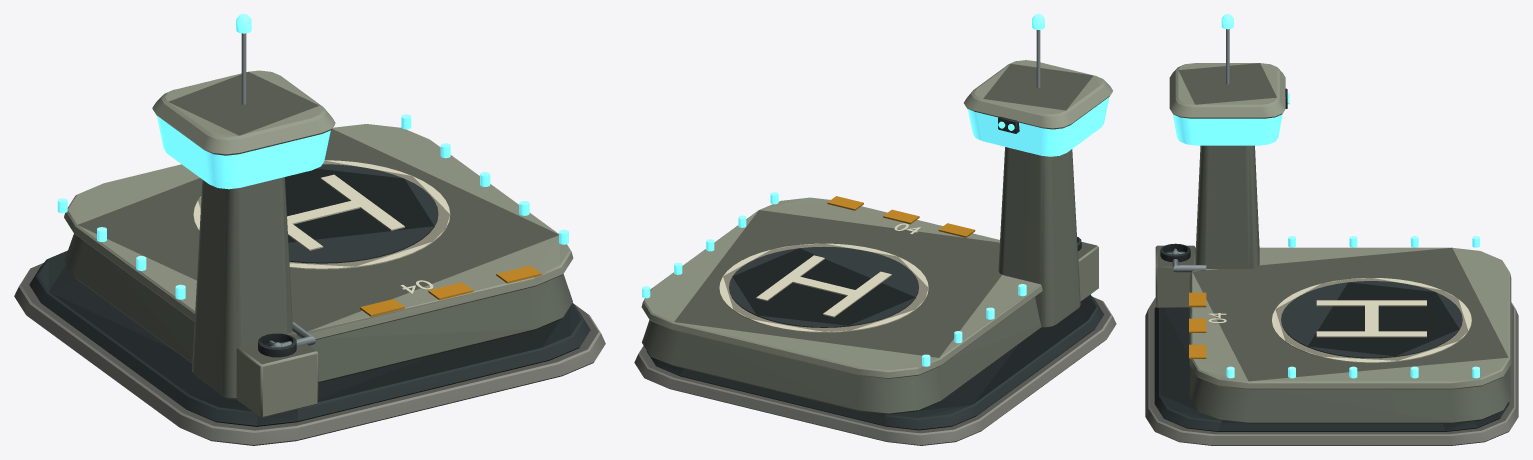
File: AircraftFactory.glb
3 renders of one model, left to right at view 1: azimuth 30°, elevation 25°; view 2: azimuth 150°, elevation 25°; view 3: azimuth 270°, elevation 25°, orthographic. The views are drawn at different scales.
Visible parts, largest first — view 1: export_AircraftFactory_Footing; view 2: export_AircraftFactory_Footing; view 3: export_AircraftFactory_Footing.
Part boxes in pixels (bbox=[...]): export_AircraftFactory_Footing: bbox=[14, 14, 605, 445]; export_AircraftFactory_Footing: bbox=[634, 14, 1116, 445]; export_AircraftFactory_Footing: bbox=[1145, 14, 1518, 445].
Size of the model in its own units: 6.09 by 5.44 by 6.09.
